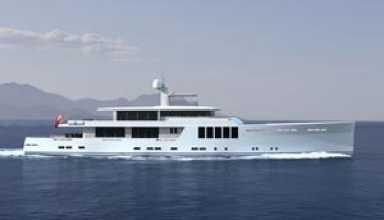yacht: (20, 76, 365, 160)
